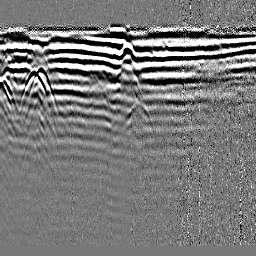cavity: (118, 39, 137, 62)
